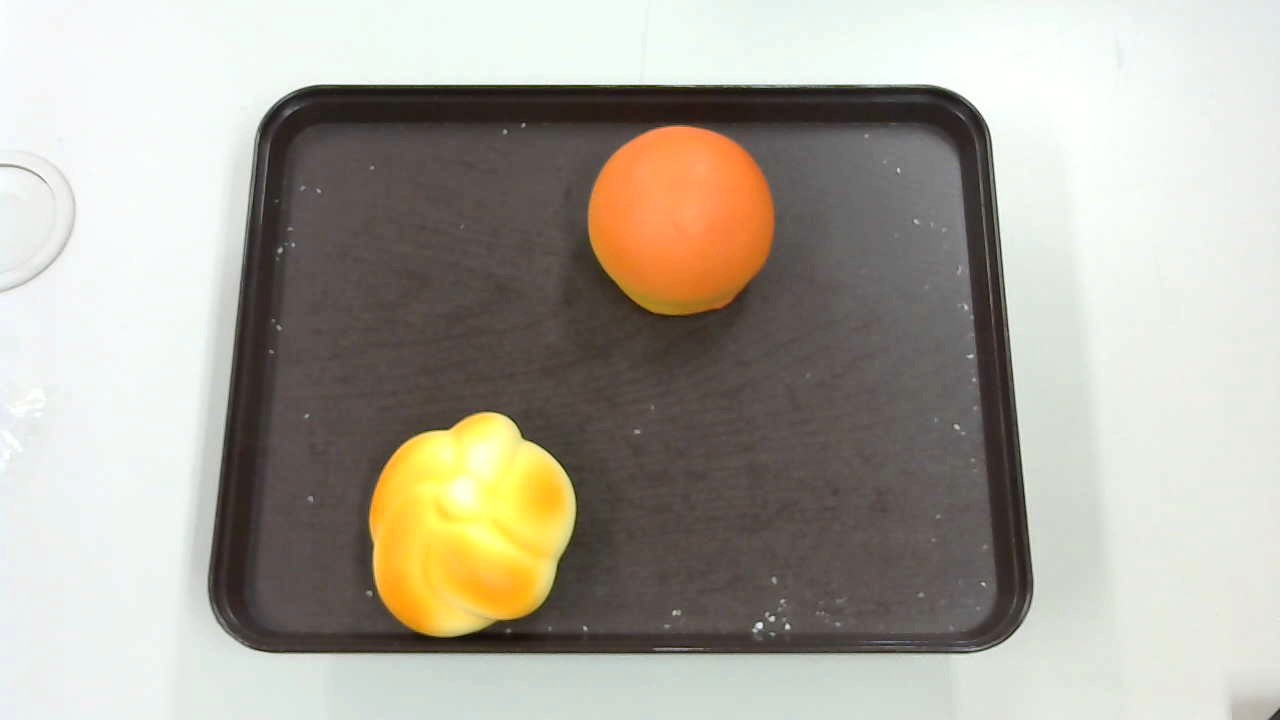bun: (587, 126, 775, 314)
twist bread: (369, 411, 576, 638)
